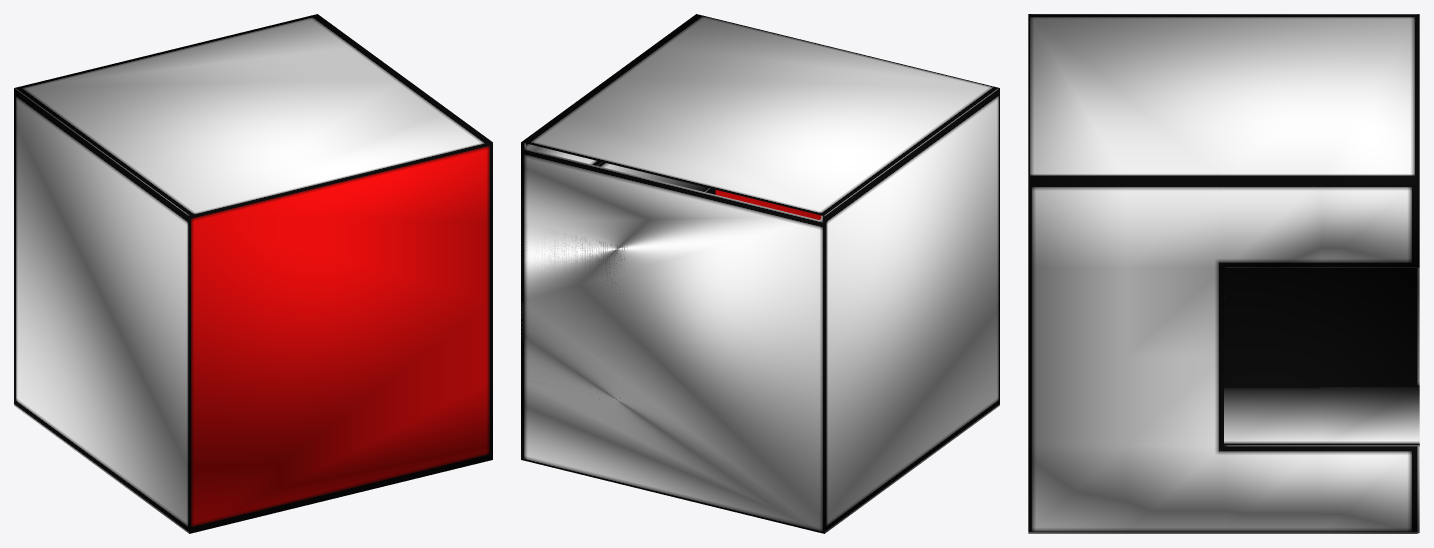
The model's file is house.fbx.
3 views of the same model, side by side, from view 1: azimuth 30°, elevation 25°; view 2: azimuth 150°, elevation 25°; view 3: azimuth 270°, elevation 25° (orthographic). The views are drawn at different scales.
Visible parts, largest first — view 1: Cube_0; view 2: Cube_0; view 3: Cube_0.
Part boxes in pixels (<box>): Cube_0: <box>14,14,492,533</box>; Cube_0: <box>521,14,999,533</box>; Cube_0: <box>1028,14,1419,533</box>.
Bounding box in the file's own units: 2 × 2 × 2.
1 material, 1 textured.
